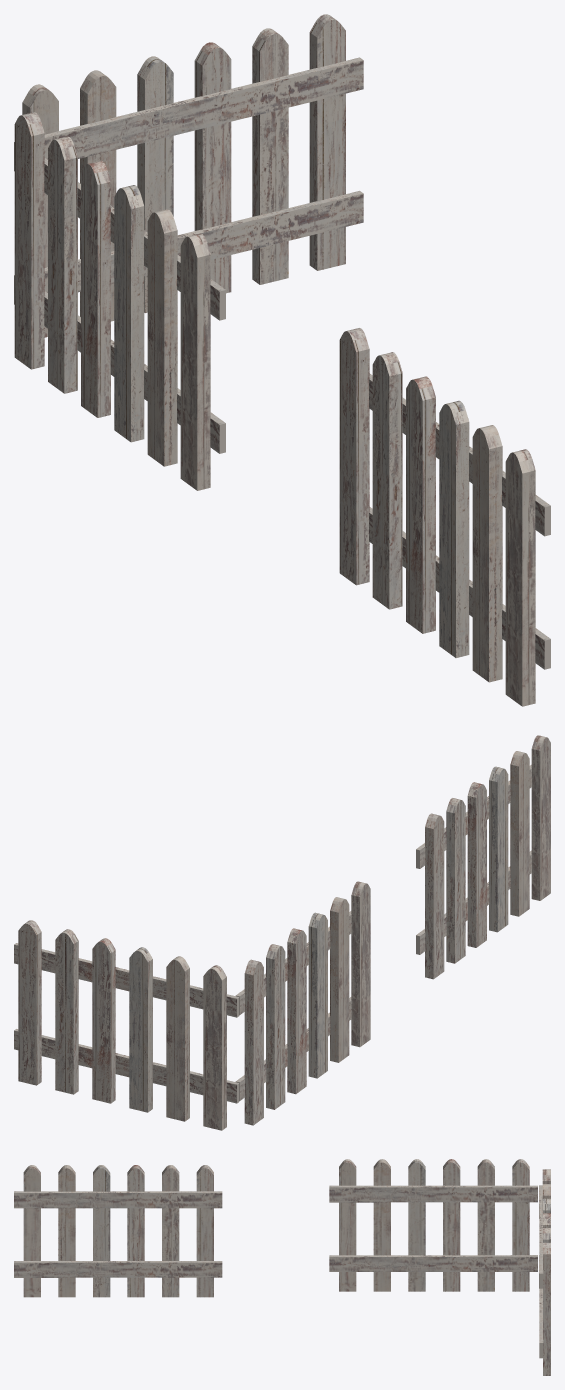
File: Vallas.obj
3 views of the same model, one above another, from view 1: azimuth 30°, elevation 25°; view 2: azimuth 150°, elevation 25°; view 3: azimuth 270°, elevation 25° (orthographic). The views are drawn at different scales.
Parts seen in each view (by area): view 1: valla5; view 2: valla5; view 3: valla5.
Part boxes in pixels (x1,y1,x2,y2): valla5: [14, 14, 550, 706]; valla5: [14, 735, 550, 1130]; valla5: [14, 1159, 550, 1375].
Size of the model in its own units: 1.83 by 1.21 by 4.55.
1 material, 1 textured.
